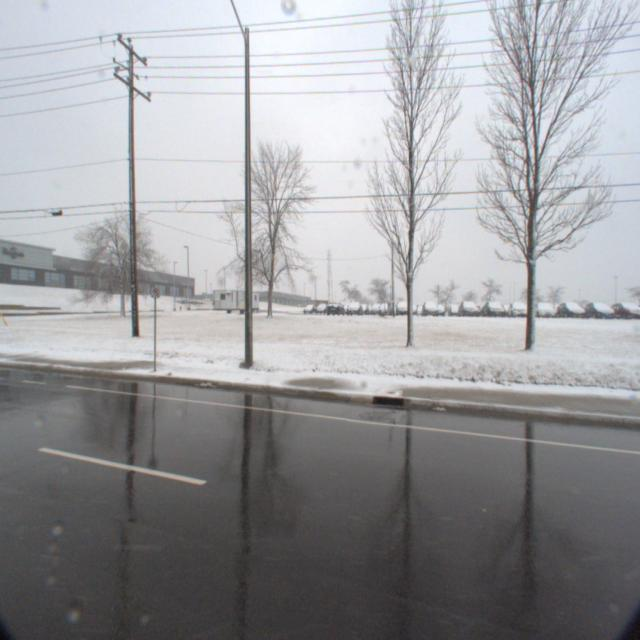Car: (502, 296, 527, 316), (453, 297, 477, 316), (418, 296, 436, 316), (322, 300, 342, 316)
